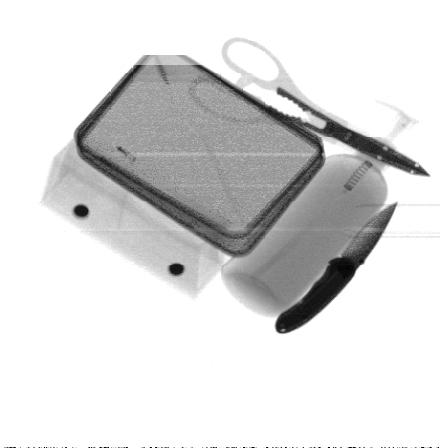Knife: (276, 200, 399, 333)
Scissors: (187, 36, 430, 176)
